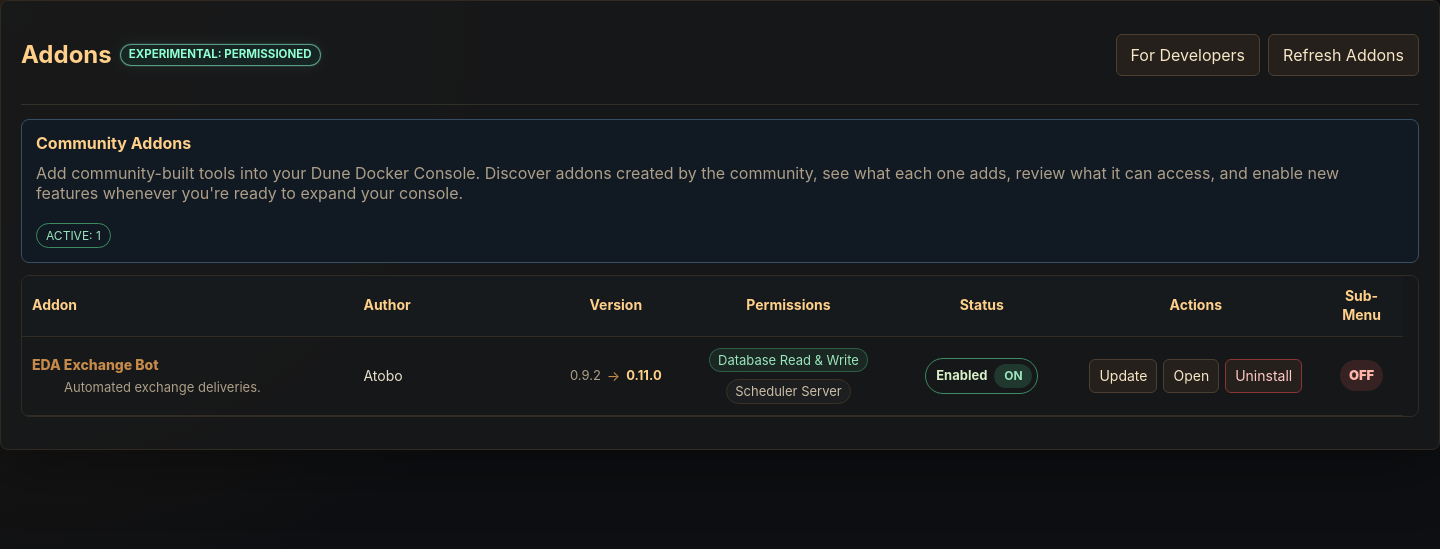
Test: reports failed cleanup and keeps the addon visible and disabled for retry
The width and height of the screenshot is (1440, 549).
Click the button "Uninstall": point(1264, 376) [1225, 359, 1302, 393]
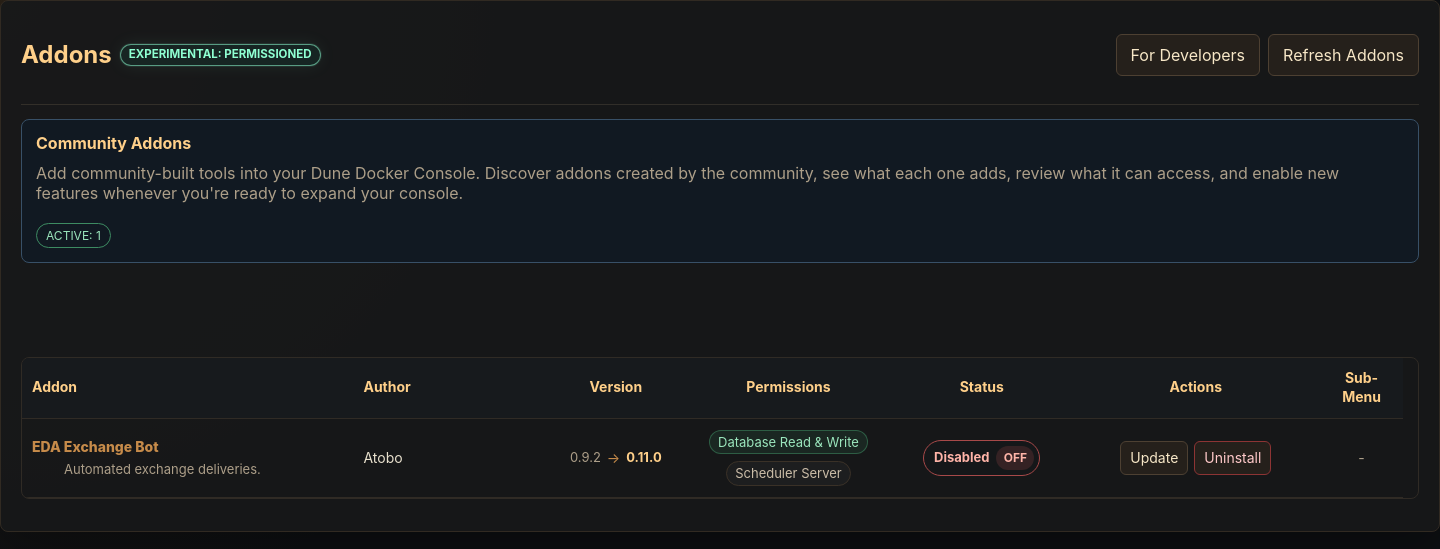
Check: the button "Uninstall" is enabled, box [1194, 441, 1271, 475]
Check: the text "Disabled" is shown, box [934, 452, 989, 464]
